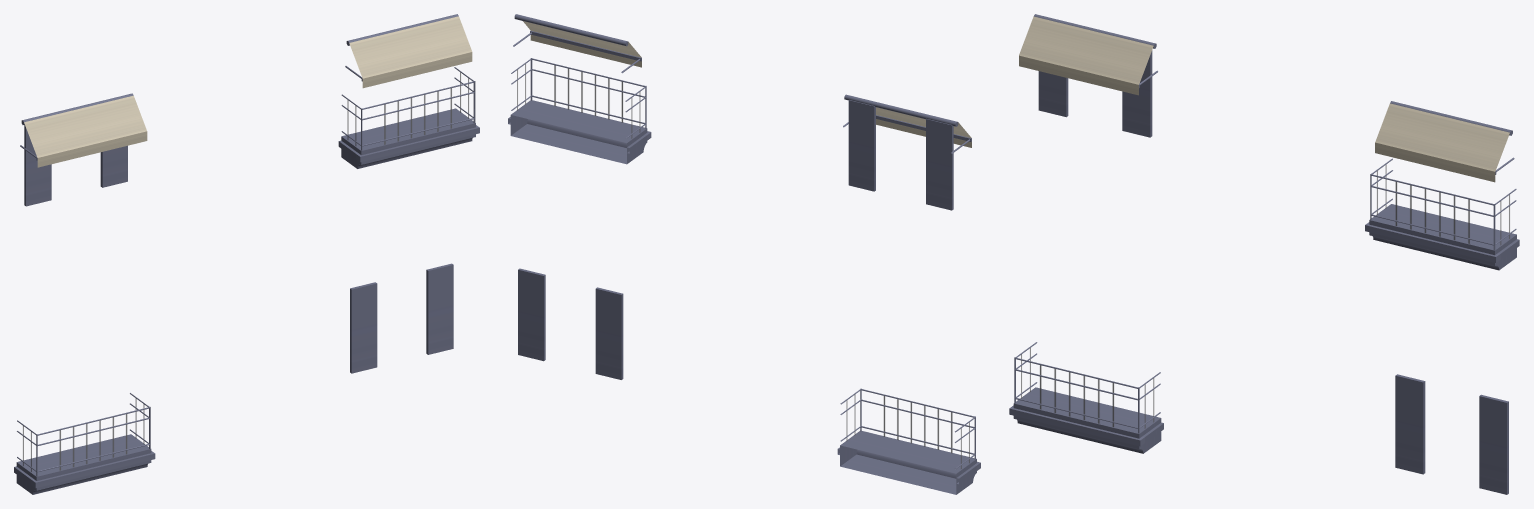
The model's file is objects_un_t06building03_wa1.gltf.
The picture shows the model from 3 angles, left to right: view 1: azimuth 30°, elevation 25°; view 2: azimuth 150°, elevation 25°; view 3: azimuth 330°, elevation 25°; orthographic projection. The views are drawn at different scales.
Parts seen in each view (by area): view 1: objects_un_t06building03_wa1_wa1_shape:objects_un_t06buildin (×3); view 2: objects_un_t06building03_wa1_wa1_shape:objects_un_t06buildin (×3); view 3: objects_un_t06building03_wa1_wa1_shape:objects_un_t06buildin (×3).
Boxes of the visible parts, x1,y1,x2,y2 form: objects_un_t06building03_wa1_wa1_shape:objects_un_t06buildin (×3): [14, 14, 479, 494]; objects_un_t06building03_wa1_wa1_shape:objects_un_t06buildin (×3): [508, 14, 980, 494]; objects_un_t06building03_wa1_wa1_shape:objects_un_t06buildin (×3): [1009, 14, 1519, 494].
Size of what is drawn, in the model's own units: 8.91 by 6.99 by 0.75.
3 materials, 3 textured.
